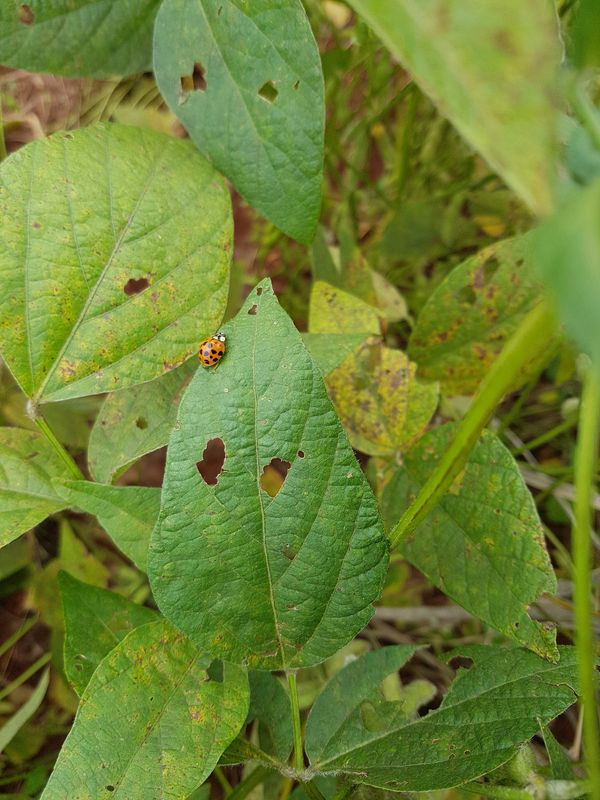Coccinellidae: (188, 326, 239, 376)
